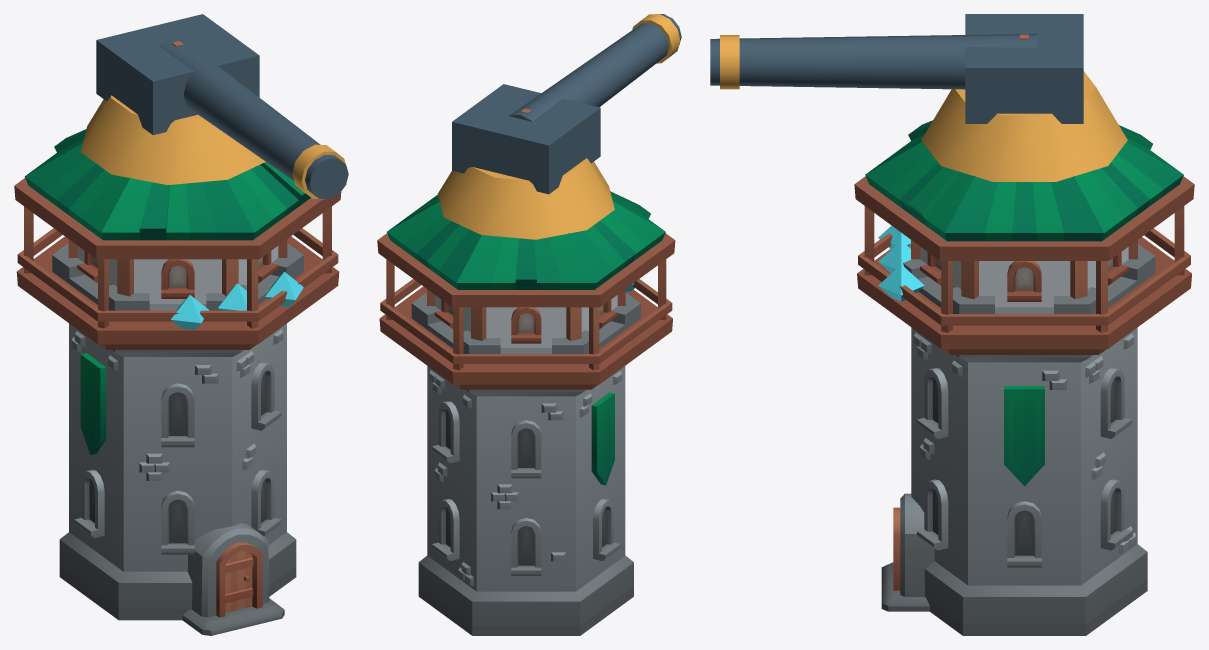
File: tower_sniper_l3.glb
3 views of the same model, side by side, from view 1: azimuth 30°, elevation 25°; view 2: azimuth 150°, elevation 25°; view 3: azimuth 270°, elevation 25° (orthographic). The views are drawn at different scales.
Visible parts, largest first — view 1: Base, building_tower_B_top_green, BarrelAssembly, Turret; view 2: Base, building_tower_B_top_green, BarrelAssembly, Turret; view 3: Base, building_tower_B_top_green, BarrelAssembly, Turret.
Boxes of the visible parts, x1=… form: Base: x1=52, y1=243, x2=303, y2=635; building_tower_B_top_green: x1=14, y1=41, x2=341, y2=349; BarrelAssembly: x1=96, y1=14, x2=348, y2=199; Turret: x1=81, y1=95, x2=265, y2=184; Base: x1=411, y1=283, x2=640, y2=635; building_tower_B_top_green: x1=377, y1=108, x2=675, y2=389; BarrelAssembly: x1=452, y1=14, x2=681, y2=194; Turret: x1=438, y1=158, x2=614, y2=239; Base: x1=878, y1=225, x2=1155, y2=635; building_tower_B_top_green: x1=854, y1=34, x2=1194, y2=354; BarrelAssembly: x1=710, y1=14, x2=1083, y2=123; Turret: x1=921, y1=71, x2=1127, y2=181.
Size of the model in its own units: 1.2 by 2.49 by 1.97.
Materials: 4 (1 with a texture image).
